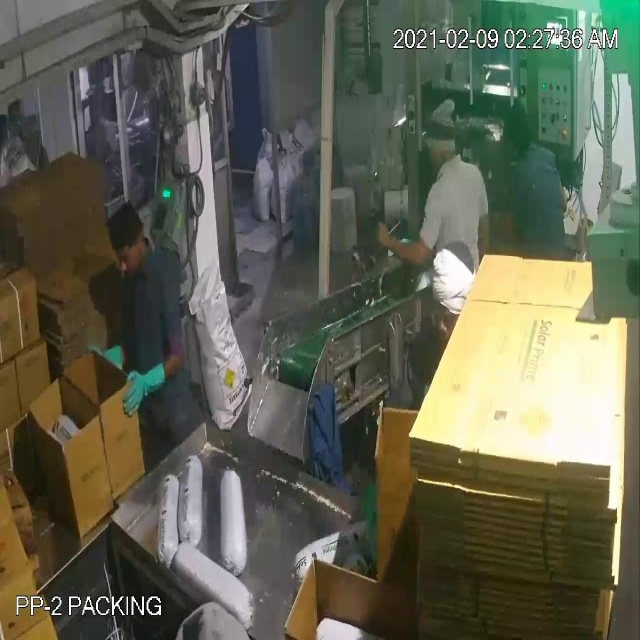Guantes: (114, 355, 174, 414), (86, 338, 127, 378)
Sin_guantes: (370, 210, 436, 276)
